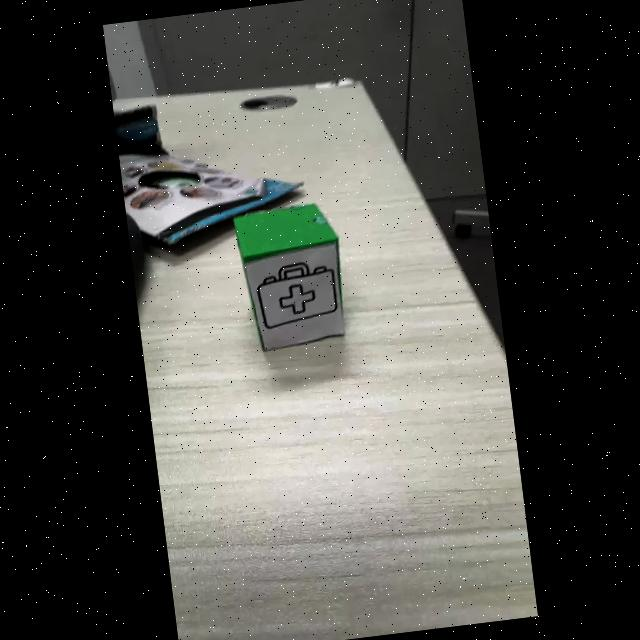Medkit: (257, 264, 337, 328)
